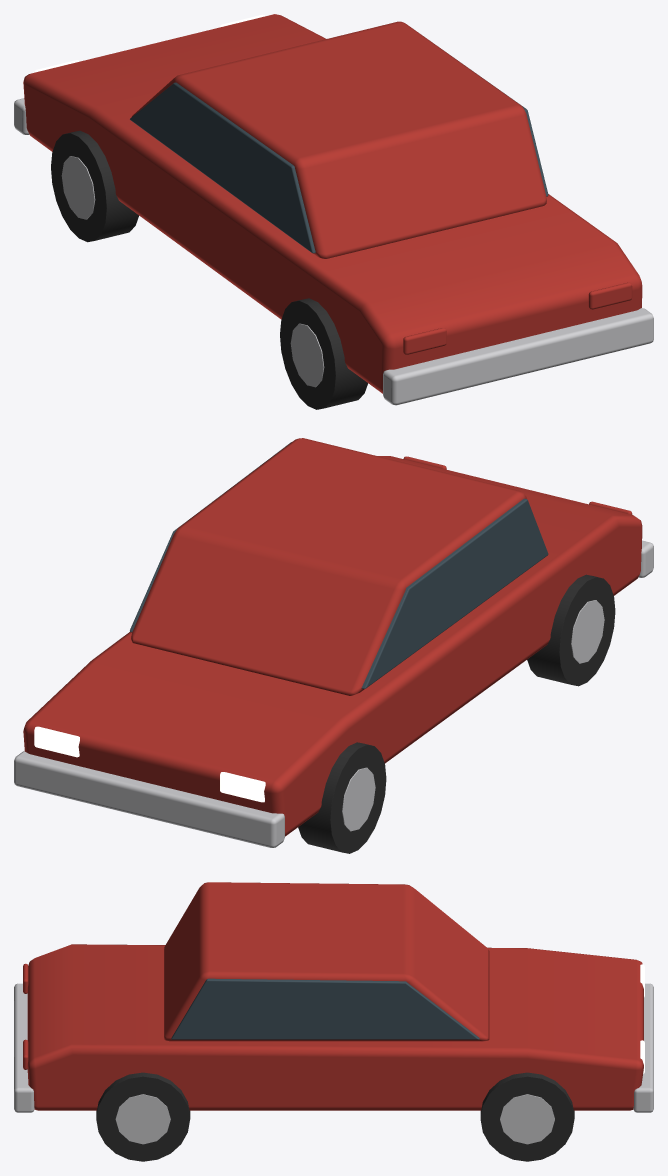
Rendered from car_3.glb.
3 renders of one model, top to bottom at view 1: azimuth 30°, elevation 25°; view 2: azimuth 150°, elevation 25°; view 3: azimuth 270°, elevation 25°, orthographic. The views are drawn at different scales.
Visible parts, largest first — view 1: Body, Cabin, Windows, BumperR, Wheel, Wheel.001, Hub.001, Hub, Taillight.001, Taillight; view 2: Body, Cabin, Windows, BumperF, Wheel, Wheel.001, Hub.001, Hub, Headlight.001, Headlight; view 3: Body, Cabin, Windows, Wheel.003, Wheel.002, Hub.002, Hub.003, BumperR, BumperF.
Part boxes in pixels (x1=…): Body: x1=23, y1=14, x2=642, y2=393; Cabin: x1=131, y1=21, x2=546, y2=258; Windows: x1=130, y1=60, x2=548, y2=253; BumperR: x1=383, y1=308, x2=653, y2=405; Wheel: x1=280, y1=298, x2=367, y2=409; Wheel.001: x1=51, y1=130, x2=138, y2=242; Hub.001: x1=61, y1=156, x2=95, y2=219; Hub: x1=290, y1=323, x2=324, y2=387; Taillight.001: x1=588, y1=282, x2=632, y2=309; Taillight: x1=403, y1=328, x2=446, y2=354; Body: x1=23, y1=456, x2=642, y2=836; Cabin: x1=131, y1=438, x2=526, y2=695; Windows: x1=130, y1=442, x2=548, y2=688; BumperF: x1=14, y1=751, x2=284, y2=847; Wheel: x1=527, y1=574, x2=615, y2=686; Wheel.001: x1=298, y1=742, x2=386, y2=853; Hub.001: x1=342, y1=767, x2=375, y2=831; Hub: x1=571, y1=600, x2=604, y2=663; Headlight.001: x1=34, y1=726, x2=79, y2=757; Headlight: x1=220, y1=772, x2=265, y2=802; Body: x1=27, y1=944, x2=643, y2=1110; Cabin: x1=164, y1=882, x2=489, y2=1041; Windows: x1=171, y1=978, x2=479, y2=1039; Wheel.003: x1=480, y1=1072, x2=574, y2=1161; Wheel.002: x1=96, y1=1072, x2=190, y2=1161; Hub.002: x1=115, y1=1094, x2=170, y2=1144; Hub.003: x1=500, y1=1094, x2=554, y2=1144; BumperR: x1=14, y1=983, x2=34, y2=1112; BumperF: x1=633, y1=983, x2=653, y2=1112.
Size of the model in its own units: 1.97 by 1.42 by 4.63.
